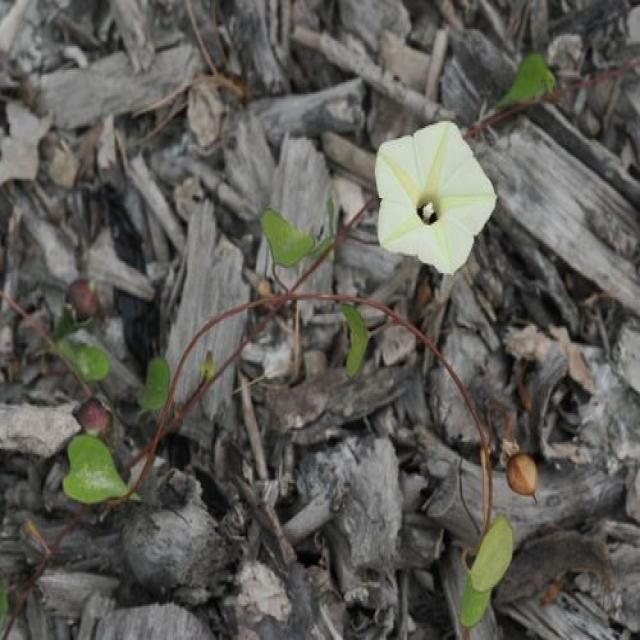ipomoea: (370, 116, 500, 282)
